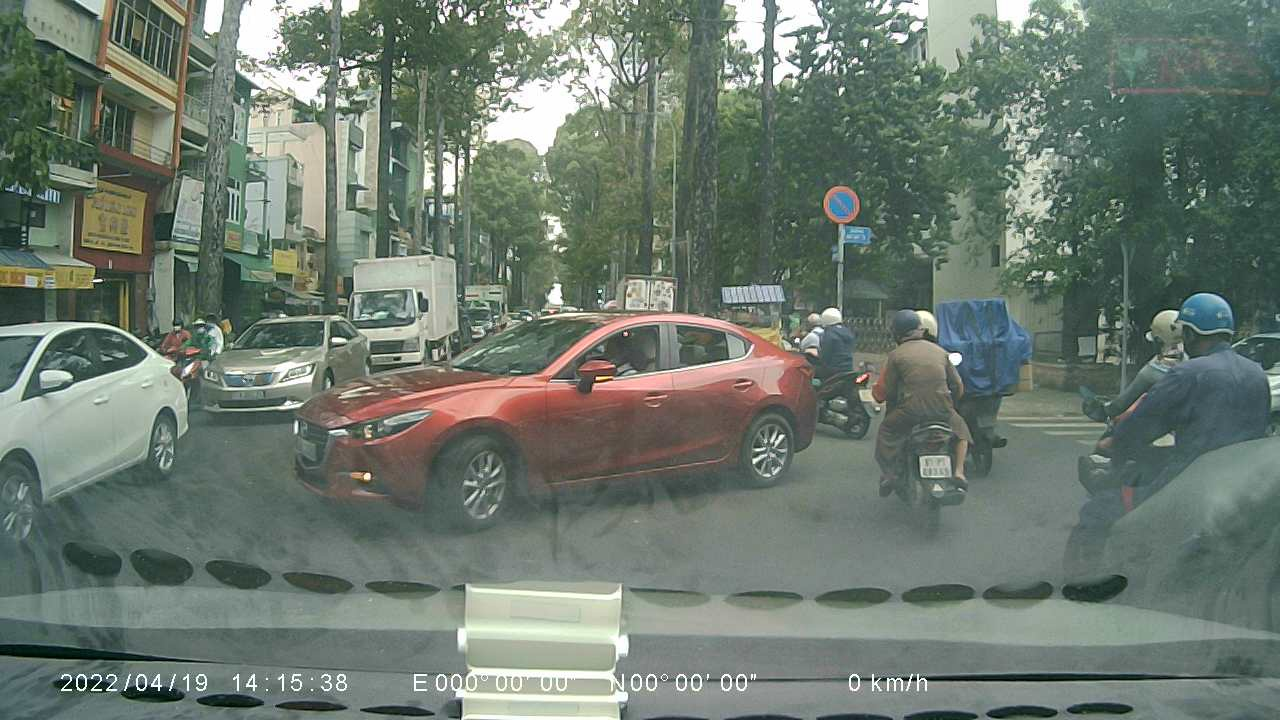Cam do xe: (822, 185, 862, 223)
